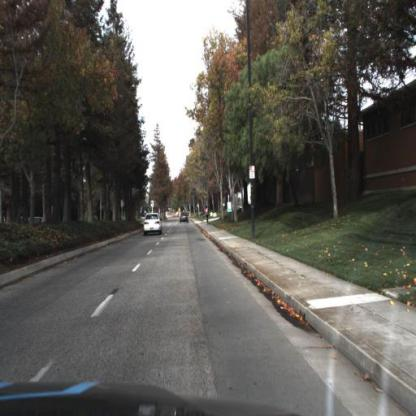biker: (204, 204, 212, 225), (205, 206, 211, 224)
car: (143, 214, 163, 236), (180, 211, 190, 223)
